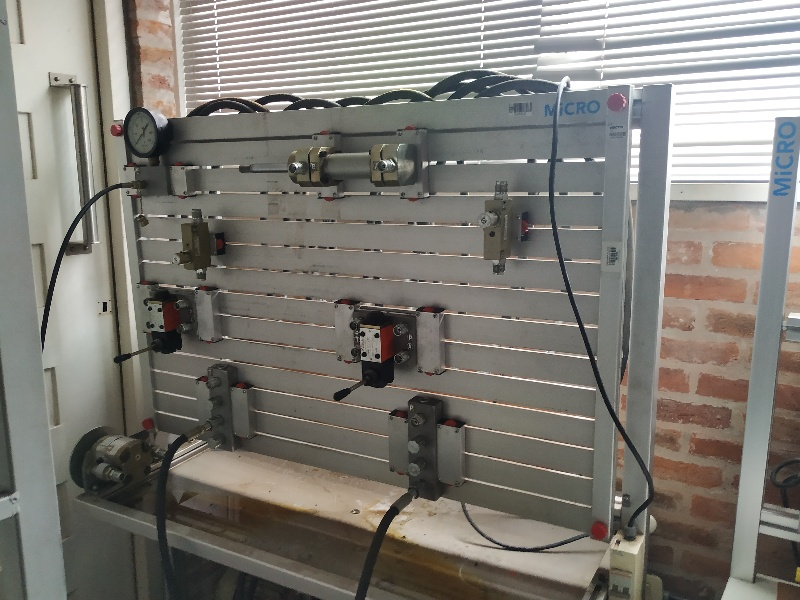Tablero 5: (116, 123, 652, 541)
